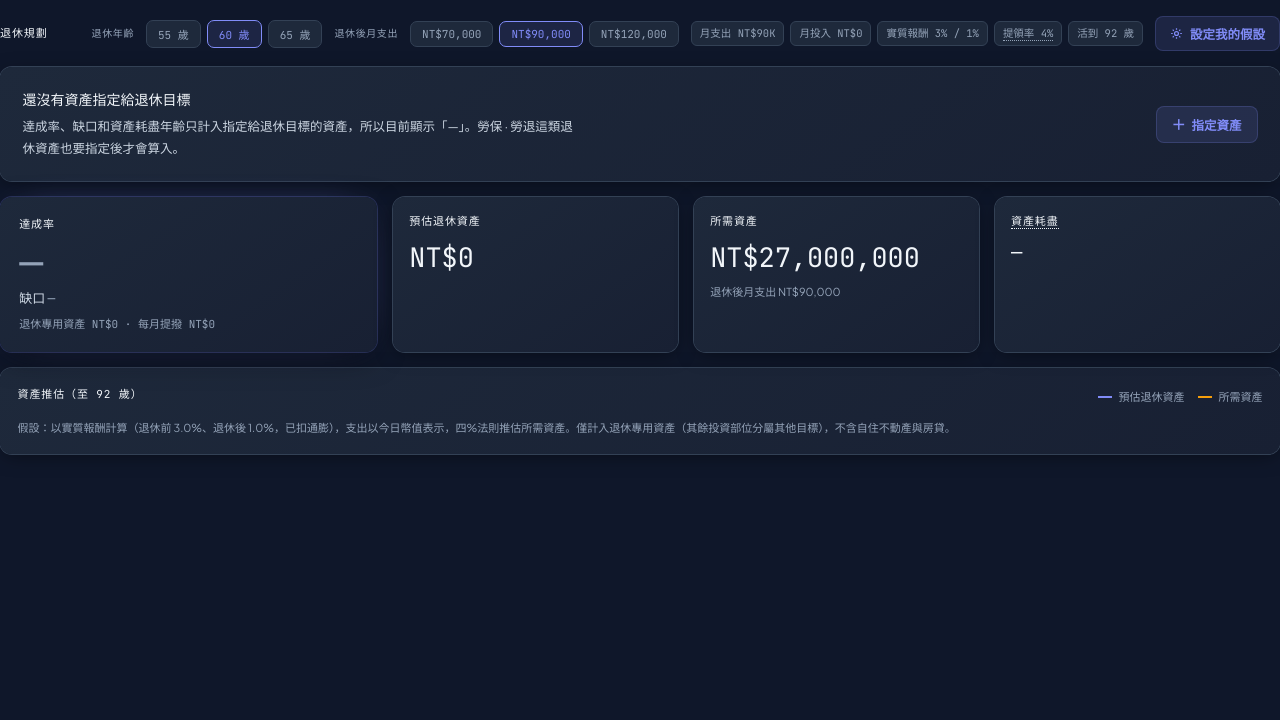
Scenario: the retirement page around it › opens the drawer from the empty card
Click the button "＋ 指定資產": x=1207, y=124 [1156,106,1258,143]
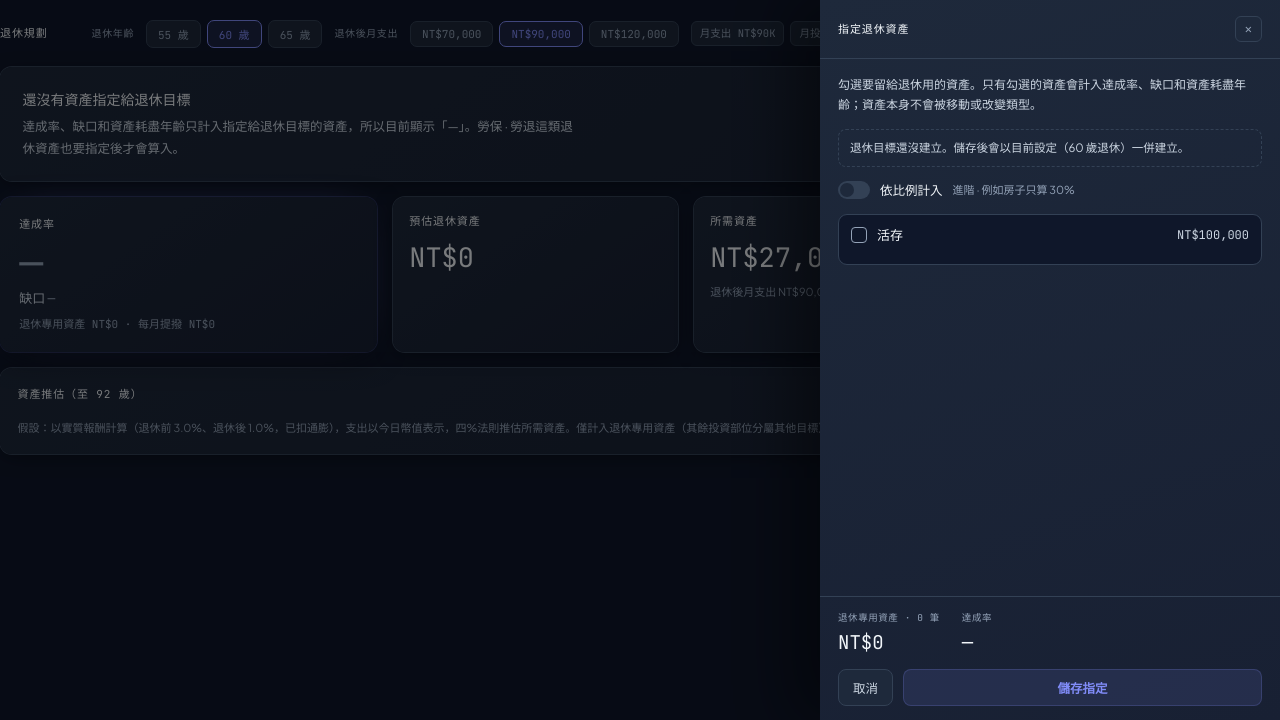
Expected: the dialog "指定退休資產" is shown, [820,0,1279,719]
